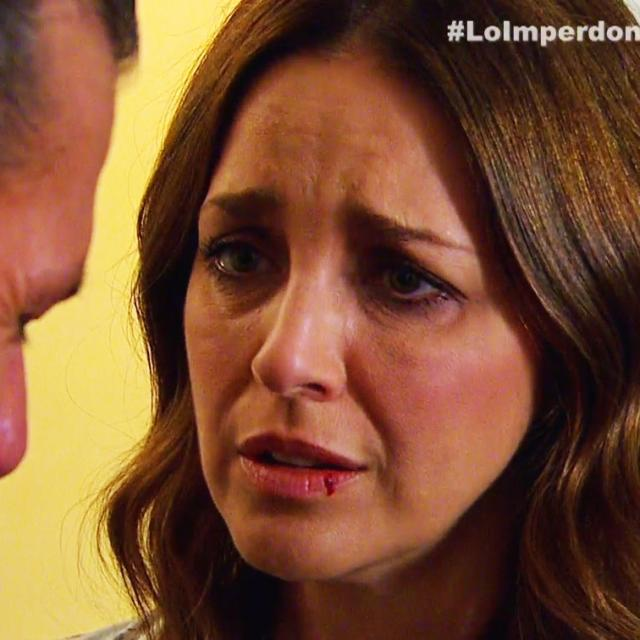Depress: (183, 36, 576, 586)
